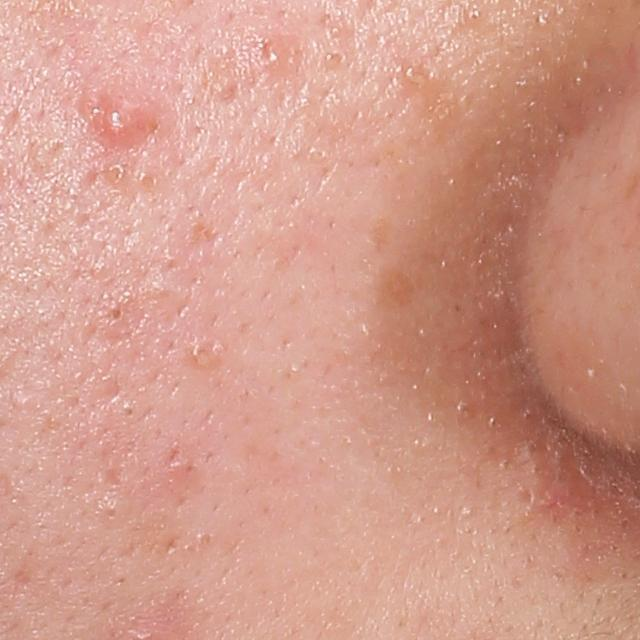comedo: (260, 39, 299, 75), (99, 160, 127, 188), (137, 169, 163, 194)
